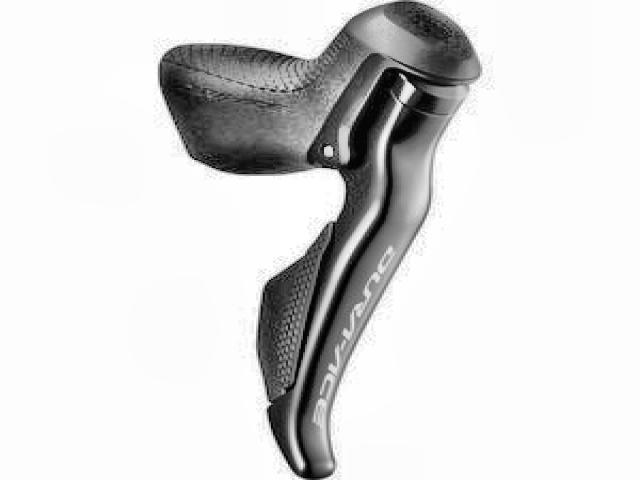sti_shifter: (158, 5, 487, 476)
